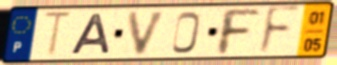0: (171, 10, 203, 55)
A: (68, 12, 113, 56)
F: (256, 4, 303, 59), (216, 7, 262, 57)
T: (41, 11, 76, 60)
V: (126, 9, 170, 57)
